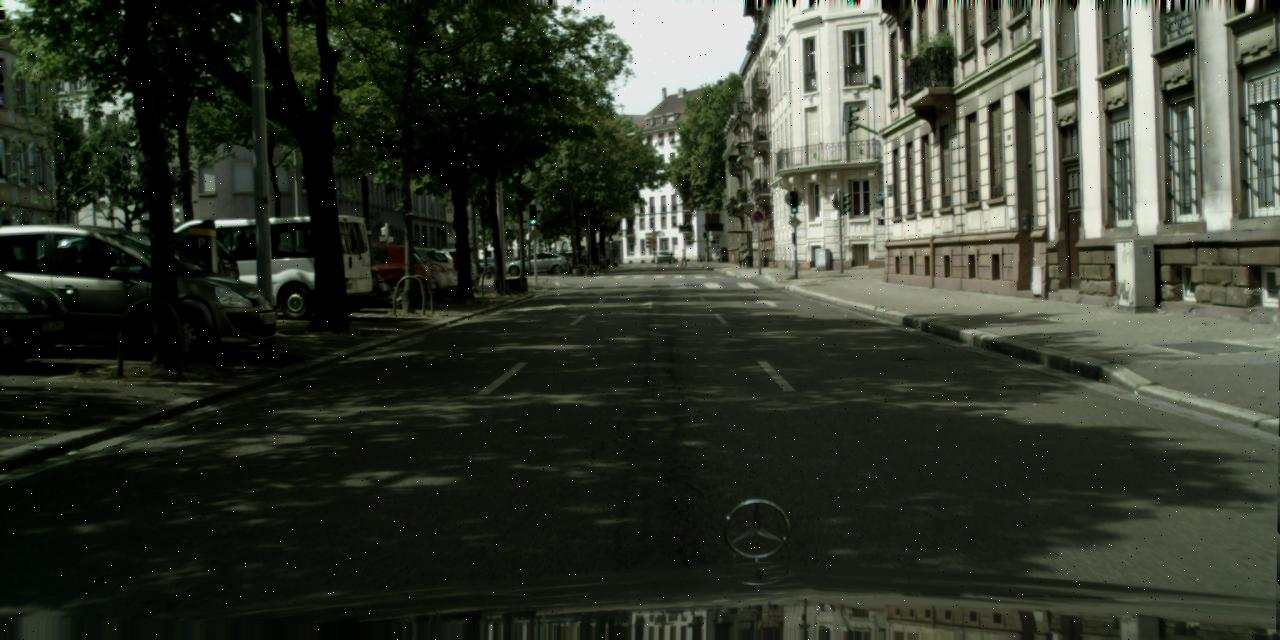ped: (680, 249, 686, 266)
